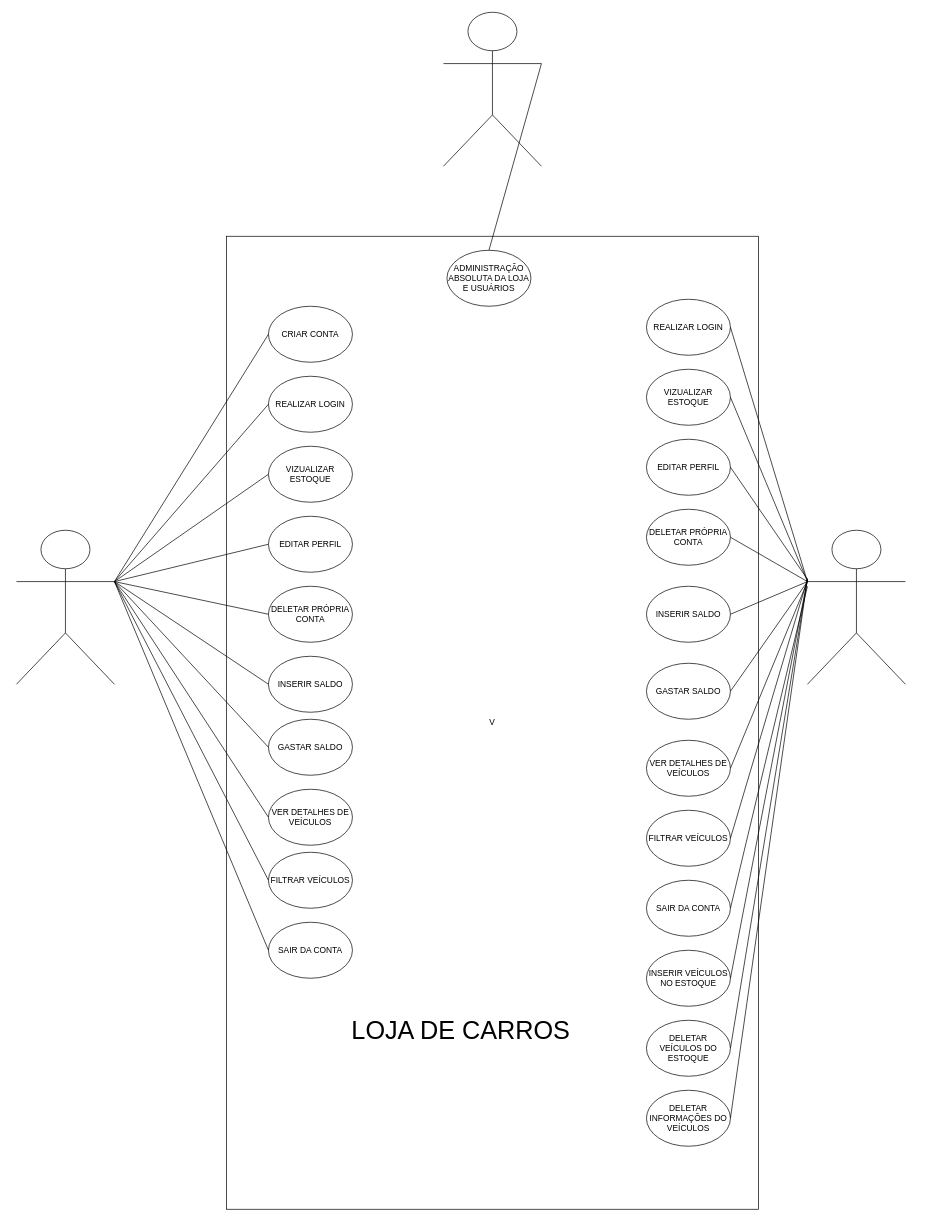
The diagram is 939 pixels wide and 1222 high, and some of its shapes have lost their labels. Here are the shapes that lost their labels. From the top down, the centre of each, then its label:
the point at 492,89: SUPERUSUÁRIO (DONO)
the point at 65,607: CLIENTE
the point at 856,607: VENDEDOR
